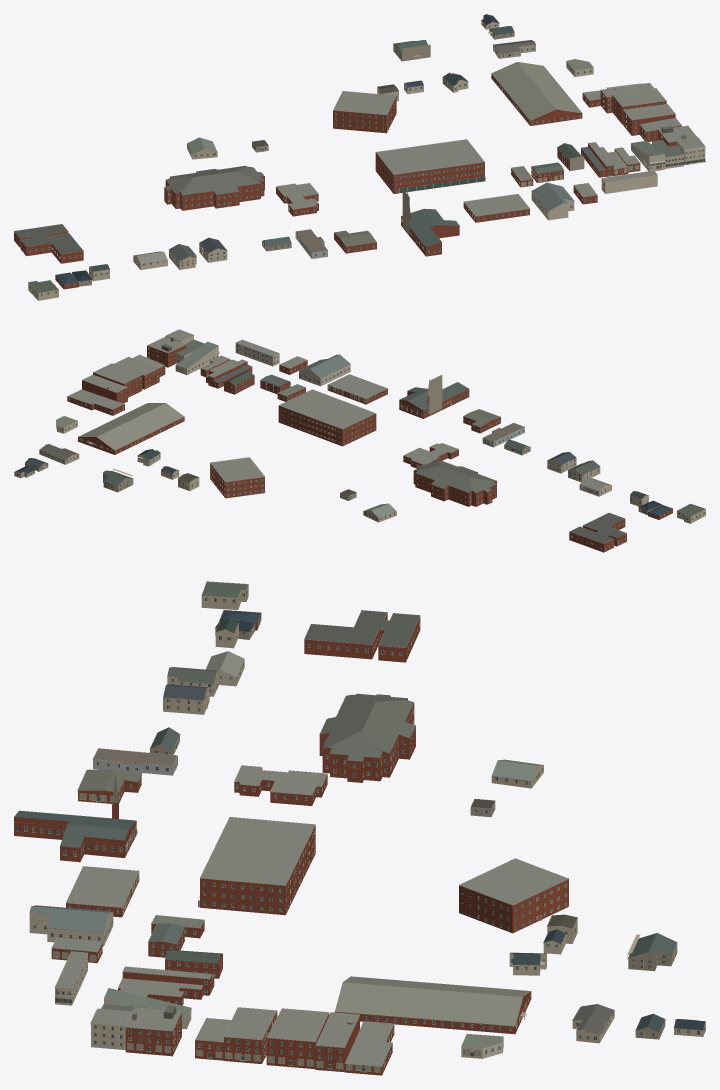
3 renders of one model, top to bottom at view 1: azimuth 30°, elevation 25°; view 2: azimuth 150°, elevation 25°; view 3: azimuth 270°, elevation 25°, orthographic. The views are drawn at different scales.
Visible parts, largest first — view 1: -1_-1_264946753_2, -1_-1_421471594_15, -1_-1_416028635_3, -1_-1_421471599_20; view 2: -1_-1_264946753_2, -1_-1_421471594_15, -1_-1_416028635_3, -1_-1_421471599_20; view 3: -1_-1_264946753_2, -1_-1_416028635_3, -1_-1_421471594_15, -1_-1_421471599_20, -1_-1_421471598_19.
Part boxes in pixels (x1,y1,x2,y2): -1_-1_264946753_2: [14, 14, 705, 296]; -1_-1_421471594_15: [133, 61, 705, 269]; -1_-1_416028635_3: [23, 16, 702, 300]; -1_-1_421471599_20: [72, 29, 514, 286]; -1_-1_264946753_2: [14, 329, 705, 552]; -1_-1_421471594_15: [56, 335, 611, 496]; -1_-1_416028635_3: [14, 401, 705, 543]; -1_-1_421471599_20: [25, 445, 661, 515]; -1_-1_264946753_2: [14, 581, 705, 1075]; -1_-1_416028635_3: [62, 585, 705, 1043]; -1_-1_421471594_15: [29, 659, 565, 1058]; -1_-1_421471599_20: [150, 623, 677, 1039]; -1_-1_421471598_19: [93, 756, 177, 775].
Size of the model in its own units: 538 by 39.82 by 317.
